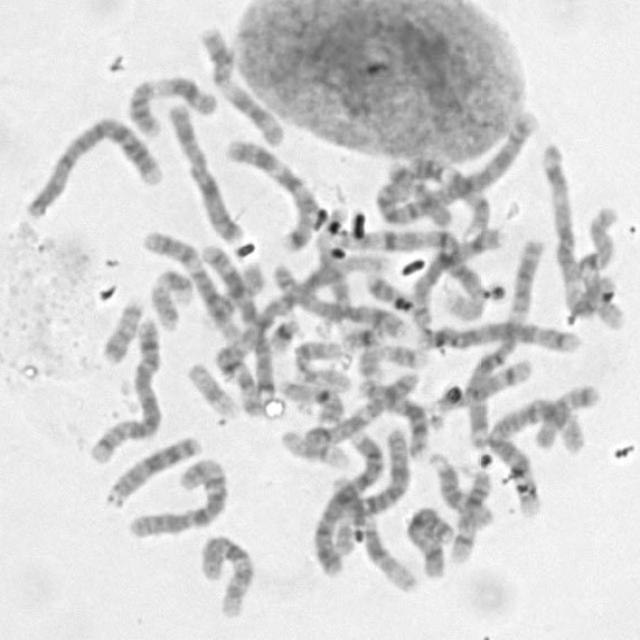A1: (216, 248, 396, 421), (334, 222, 492, 324)
A2: (372, 108, 540, 226), (486, 391, 590, 518)
A3: (464, 234, 550, 451), (537, 138, 602, 325)
B4: (19, 109, 163, 221), (306, 425, 387, 579)
B5: (84, 312, 164, 466), (412, 317, 583, 355)
C10: (570, 204, 624, 315), (195, 528, 256, 620)
C11: (196, 20, 287, 148), (122, 69, 218, 137)
C12: (323, 471, 421, 595), (138, 225, 240, 342)
C6: (332, 425, 414, 552), (122, 453, 230, 541)
C7: (200, 242, 276, 412), (219, 133, 317, 253)
C8: (272, 257, 407, 340), (408, 224, 506, 331)
C9: (255, 244, 389, 328), (403, 152, 493, 236)
D13: (103, 431, 204, 510), (354, 372, 429, 463)
D14: (426, 355, 535, 422), (446, 466, 496, 564)
D15: (424, 447, 496, 527), (314, 238, 352, 335)
E16: (199, 257, 268, 330), (275, 376, 346, 426)
E17: (146, 262, 194, 332), (352, 338, 428, 378)
E18: (527, 379, 602, 452), (378, 158, 454, 228)
F19: (276, 424, 352, 471), (182, 356, 238, 419)
F20: (98, 294, 146, 366), (363, 268, 416, 315)
G21: (334, 319, 385, 353), (262, 310, 301, 354)
G22: (585, 269, 627, 331), (293, 364, 353, 393)
X: (164, 98, 246, 246), (403, 501, 455, 580)
